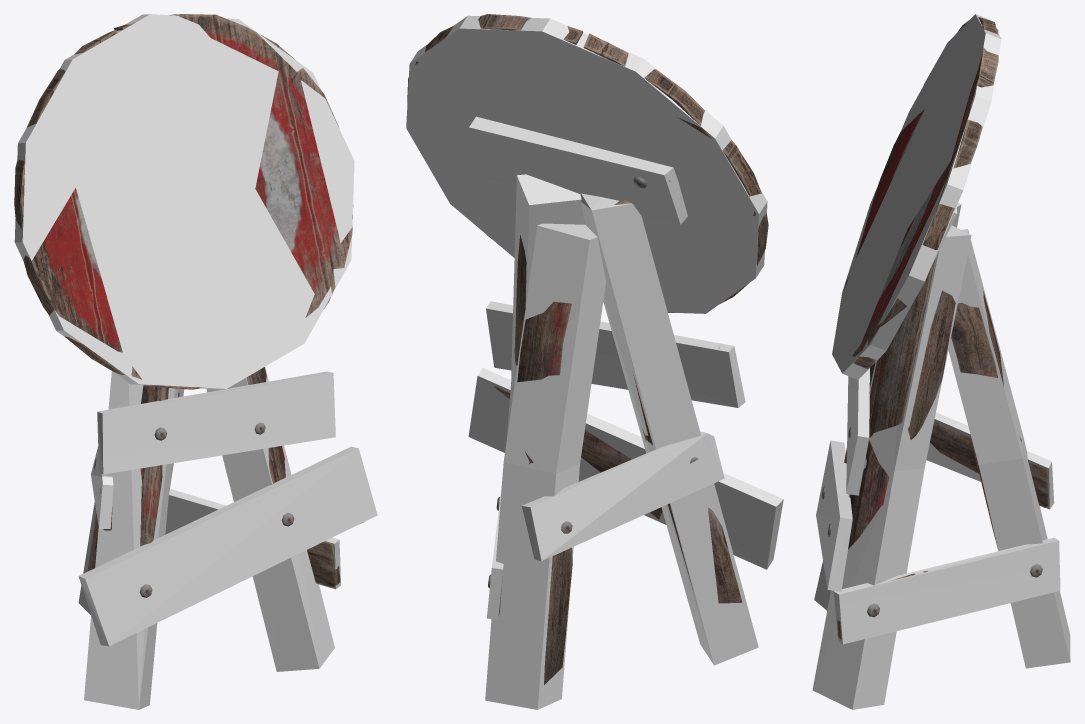
File: WoodenTarget.fbx
The picture shows the model from 3 angles, left to right: view 1: azimuth 30°, elevation 25°; view 2: azimuth 150°, elevation 25°; view 3: azimuth 270°, elevation 25°; orthographic projection. The views are drawn at different scales.
Visible parts, largest first — view 1: WoodenTarget_COL, WoodenTargetBase_COL, WoodenTarget_LOD0; view 2: WoodenTargetBase_COL, WoodenTarget_COL, WoodenTarget_LOD0; view 3: WoodenTargetBase_COL, WoodenTarget_LOD0, WoodenTarget_COL.
Part boxes in pixels (<box>): WoodenTarget_COL: <box>14,14,354,389</box>; WoodenTargetBase_COL: <box>78,367,377,709</box>; WoodenTarget_LOD0: <box>14,14,363,597</box>; WoodenTargetBase_COL: <box>468,116,783,709</box>; WoodenTarget_COL: <box>406,15,767,313</box>; WoodenTarget_LOD0: <box>407,14,768,684</box>; WoodenTargetBase_COL: <box>812,202,1070,709</box>; WoodenTarget_LOD0: <box>821,17,1048,639</box>; WoodenTarget_COL: <box>832,14,1001,379</box>.
Size of what is drawn, in the model's own units: 70.13 by 126 by 46.9.
Materials: 2 (1 with a texture image).
